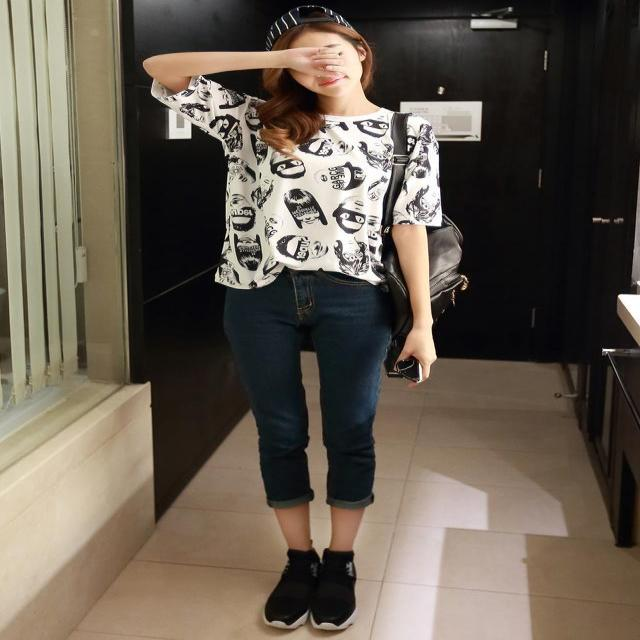short sleeve top: (156, 71, 440, 285)
trousers: (227, 263, 391, 507)
